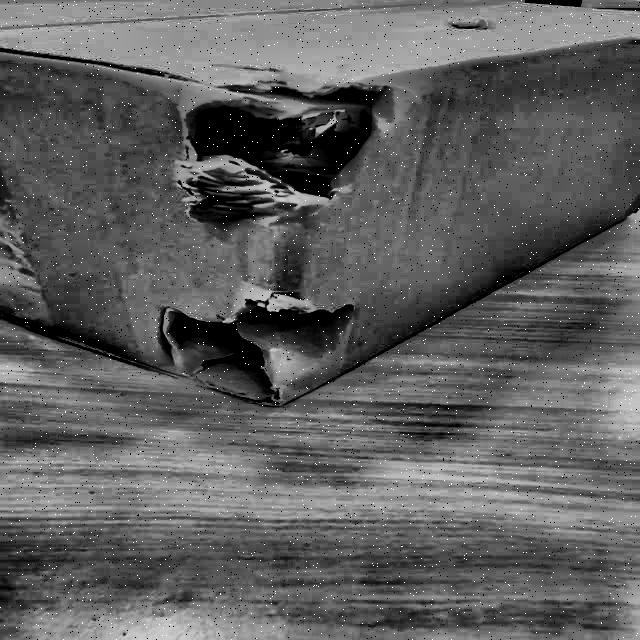box: (1, 0, 640, 424)
hole: (163, 76, 410, 210), (159, 295, 352, 399)
